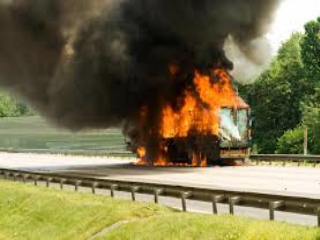fire: (157, 79, 253, 147)
smoke: (16, 6, 152, 128)
